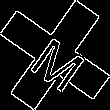M_NE: (21, 21, 89, 89)
